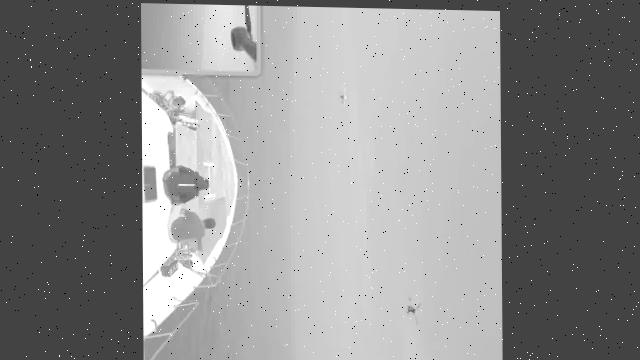drone: (398, 281, 426, 329), (331, 83, 352, 109)
